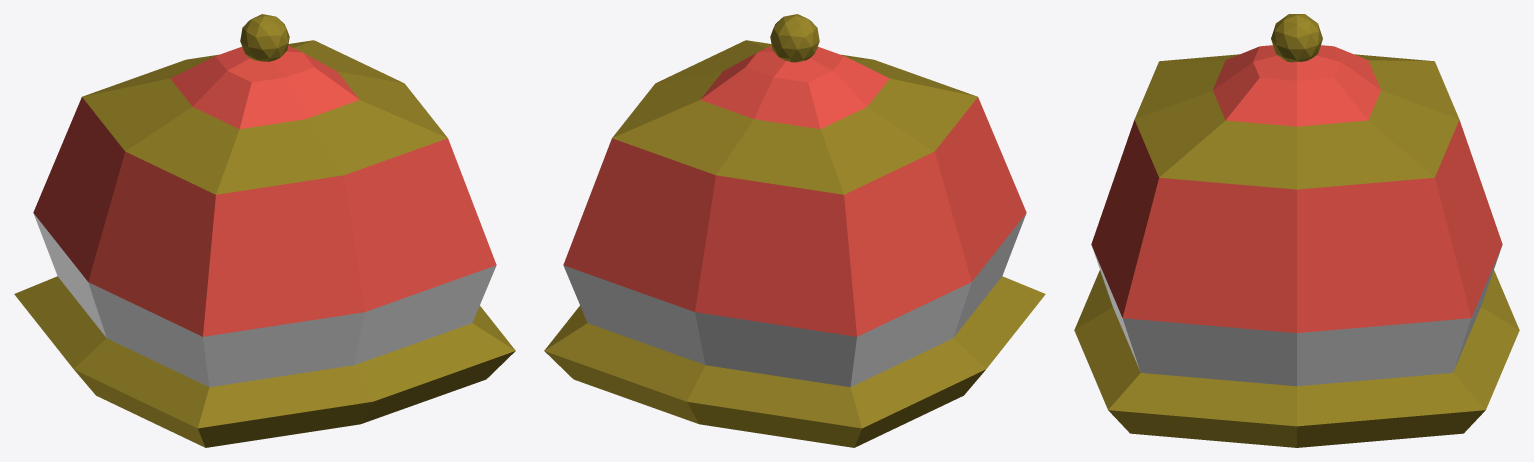
The model's file is Coroa.fbx.
3 renders of one model, left to right at view 1: azimuth 30°, elevation 25°; view 2: azimuth 150°, elevation 25°; view 3: azimuth 270°, elevation 25°, orthographic. The views are drawn at different scales.
Parts seen in each view (by area): view 1: Cube; view 2: Cube; view 3: Cube.
Boxes of the visible parts, box(x1,y1,x2,y2) form: Cube: box(14, 14, 515, 447); Cube: box(544, 14, 1045, 447); Cube: box(1074, 14, 1519, 447).
Bounding box in the file's own units: 85.99 × 72.61 × 84.22.
